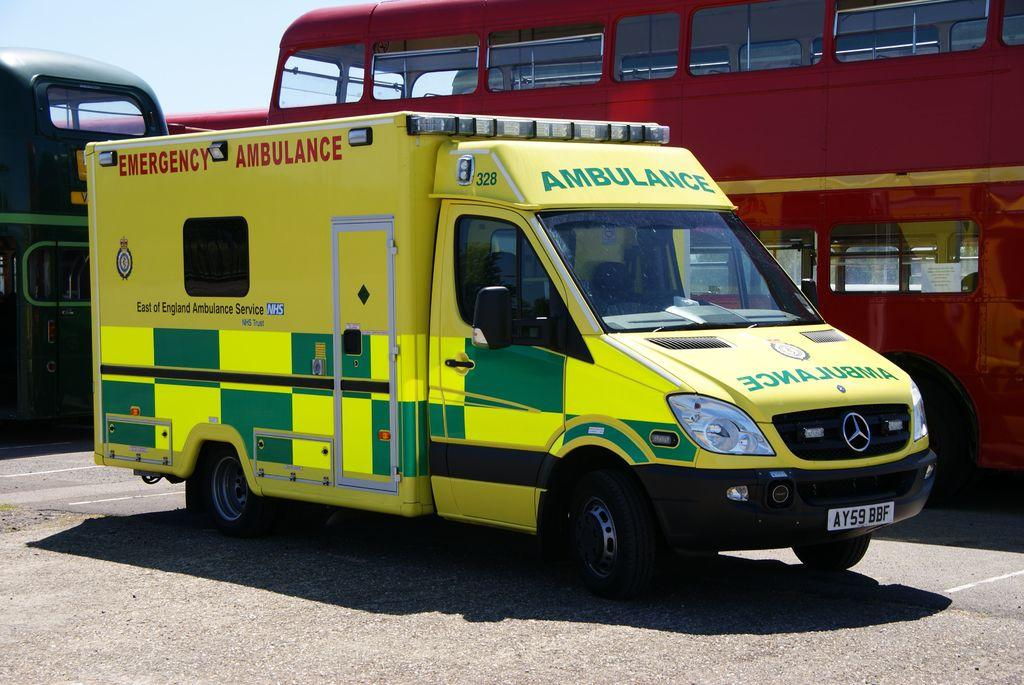Ambulance: (84, 107, 940, 592)
